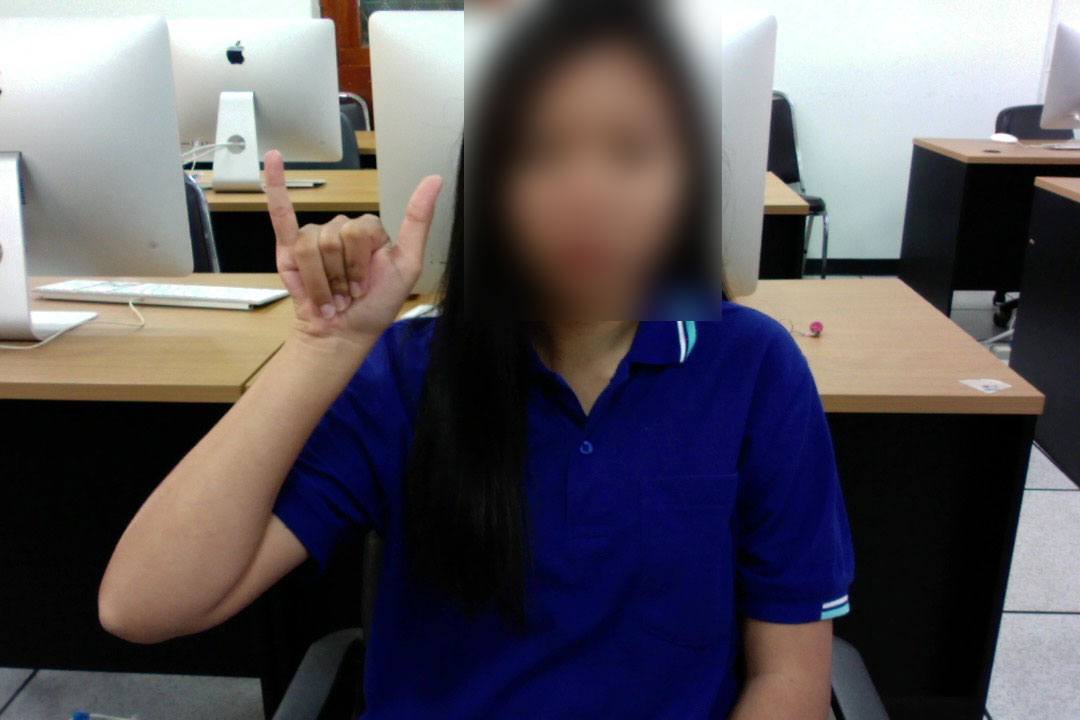yor: (256, 138, 448, 370)
